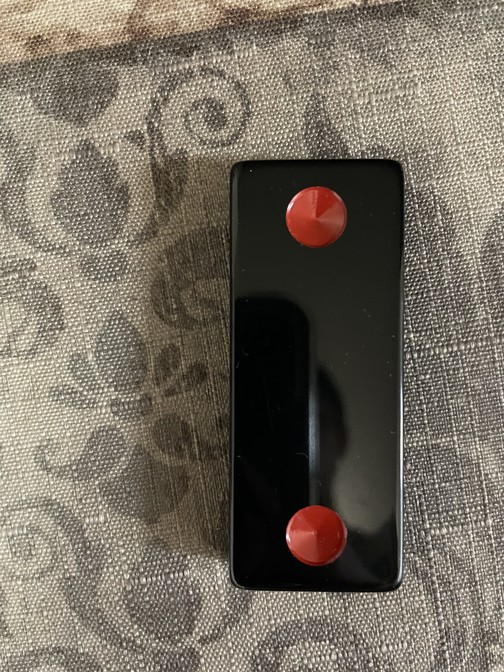earth: (229, 160, 405, 593)
